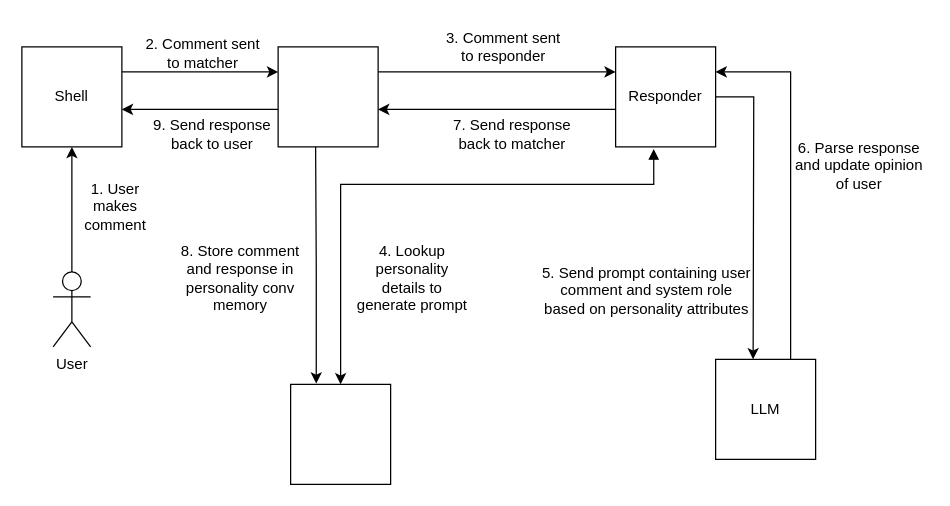
The diagram is 950 pixels wide and 506 high, and some of its shapes have lost their labels. Here are the shapes that lost their labels. From the top down, the centre of each, then its label:
At point (327, 96): "Matcher".
At point (340, 433): "Personality".
